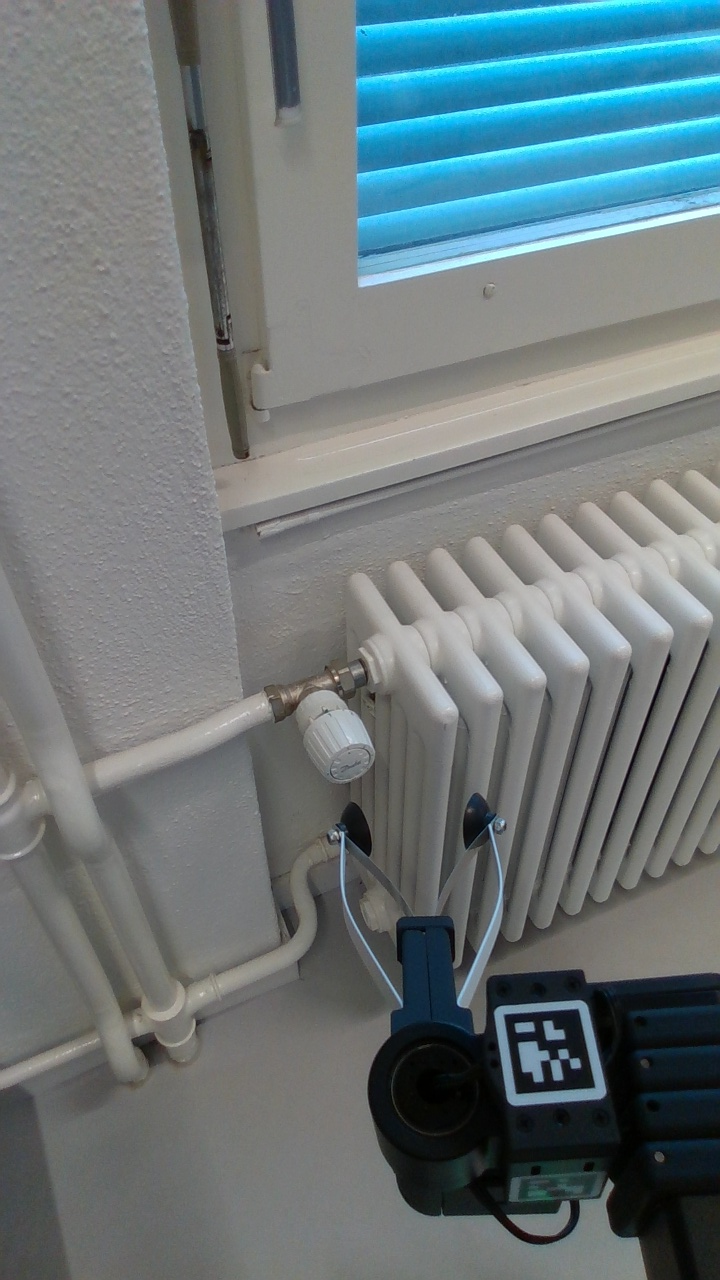Knob_Radiator: (284, 686, 381, 789)
Radiator: (330, 441, 715, 984)
